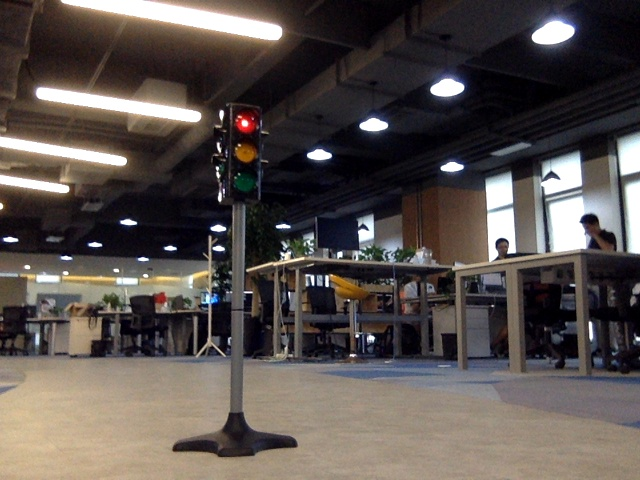red: (231, 109, 260, 195)
